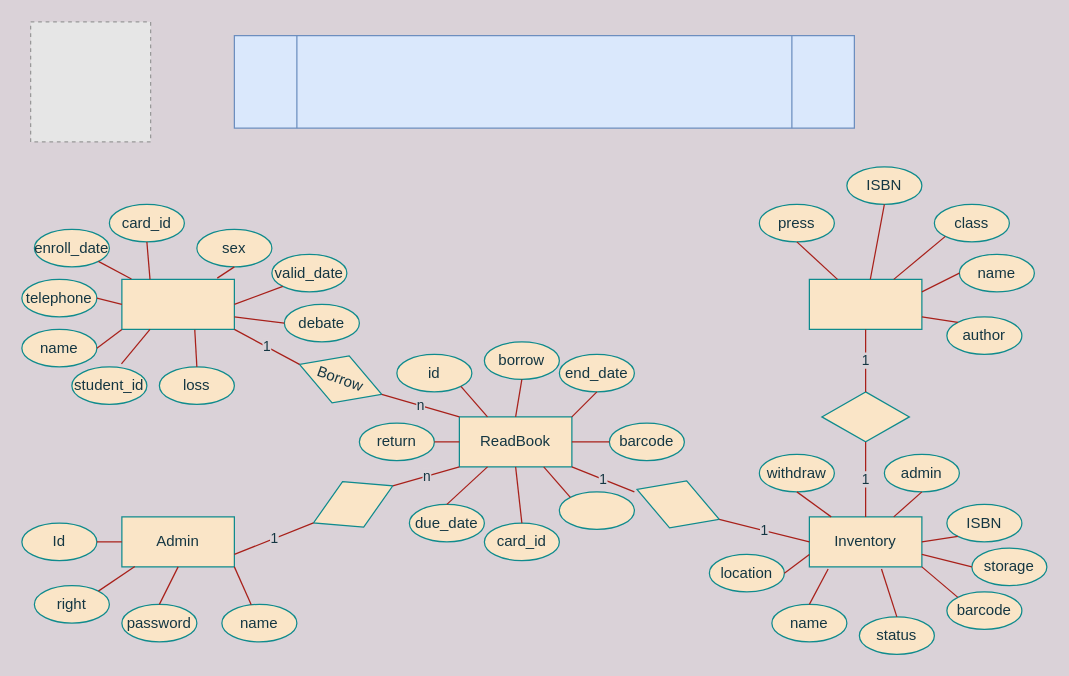
This 1069x676 diagram has some shape labels left out. Grey dashed boxes stand in for pictures. The shapes that lost their labels are listed below. From the top down, each one's centre as x and y in pixels, then its label:
(543,81): Book Management System Database ER Figure Created By Dawei Li, Hengyuan Zhang
(177,303): Student
(865,303): Book
(865,416): Record
(353,504): Lend
(596,510): start_date
(677,503): Register
